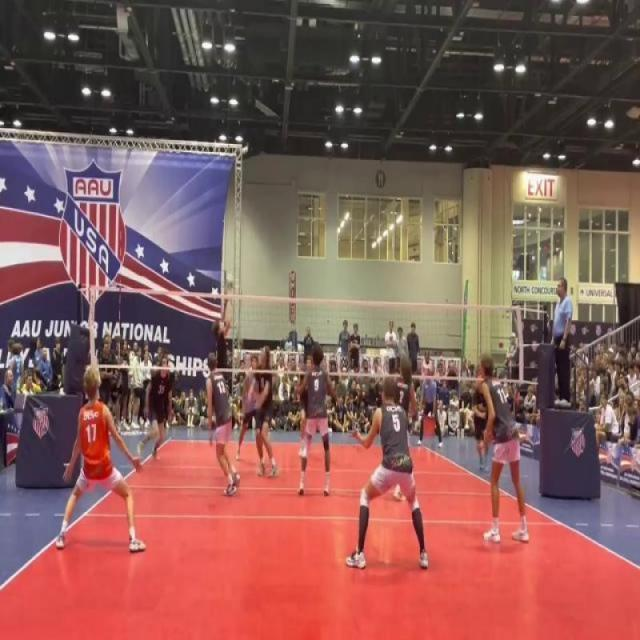volleyball: (223, 277, 238, 296)
